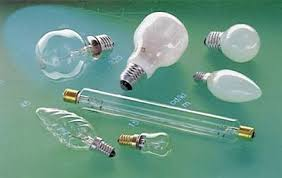Light_bulb: (58, 86, 258, 145), (120, 11, 191, 98), (35, 24, 119, 84), (35, 105, 119, 163), (201, 23, 267, 67), (193, 68, 264, 105), (119, 130, 182, 161)
